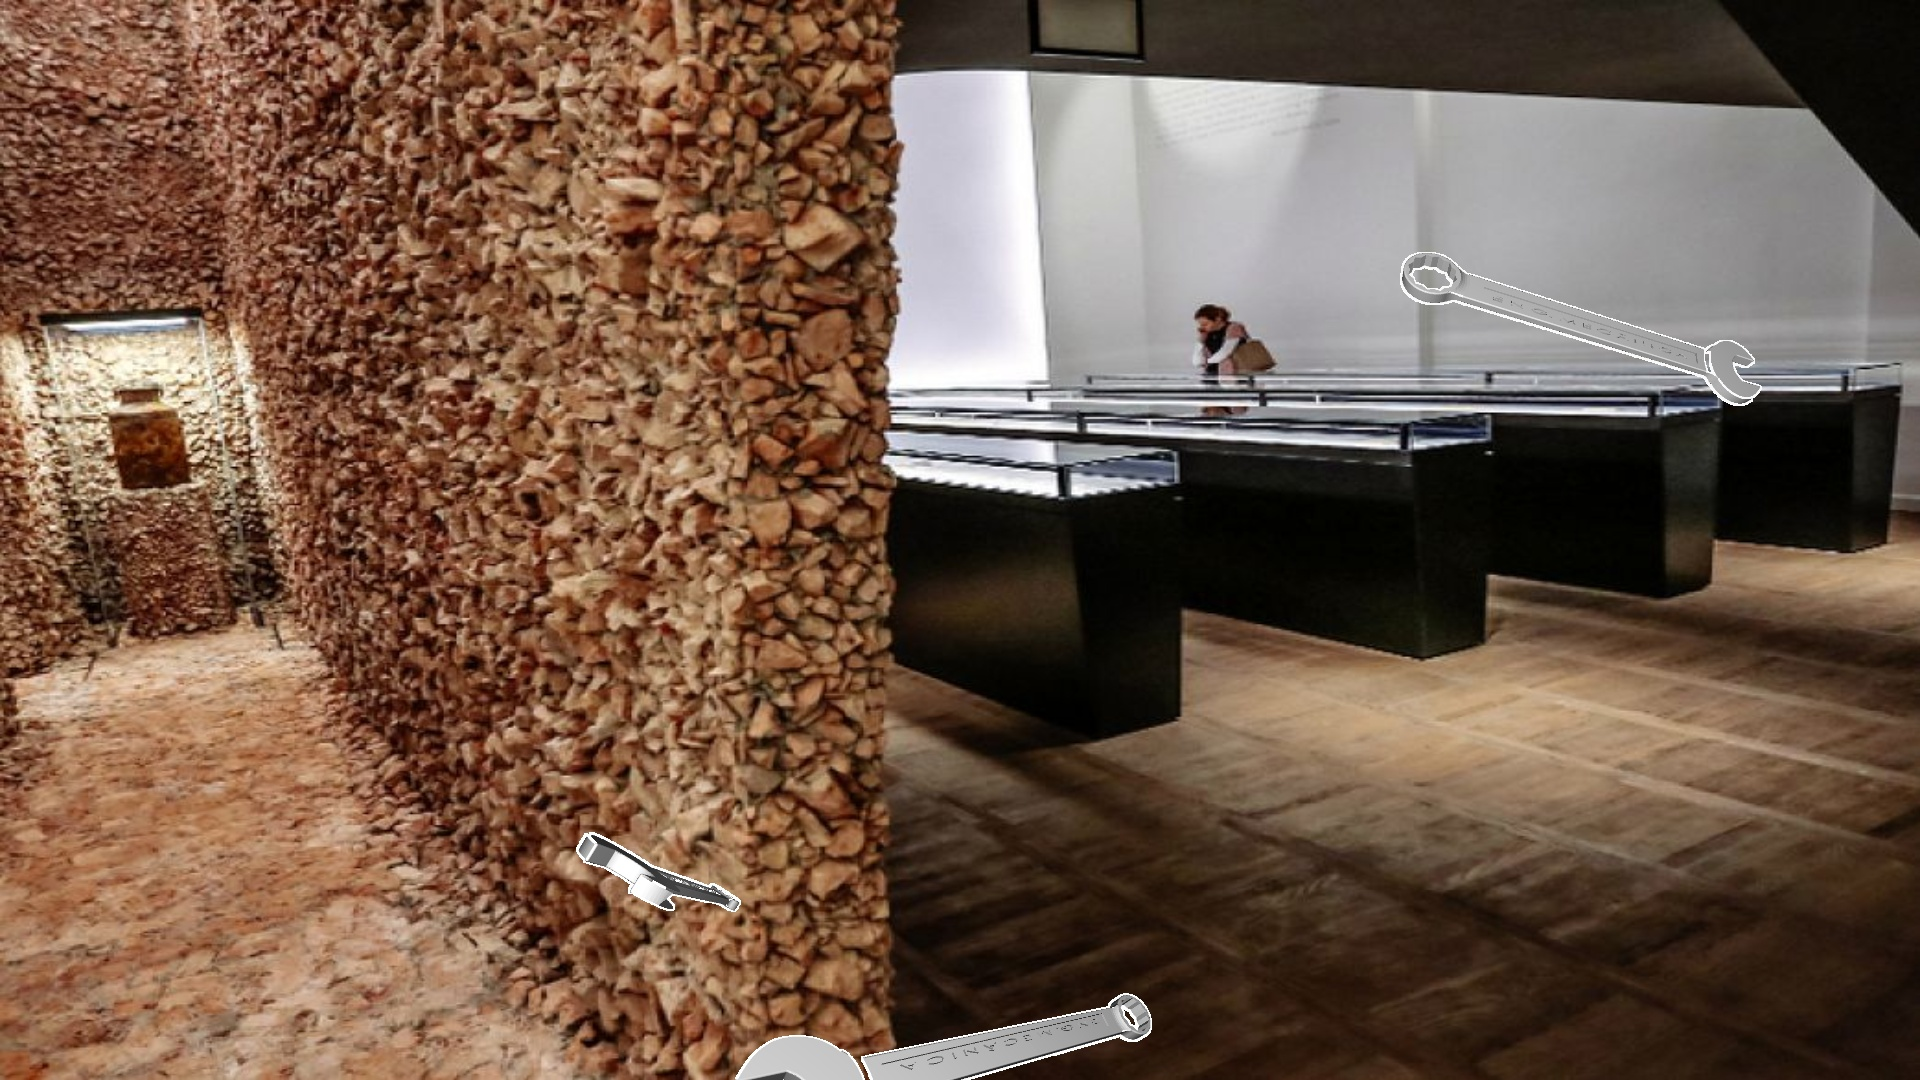Mixed Key: (1400, 252, 1760, 405), (735, 993, 1151, 1079), (576, 832, 740, 911)
